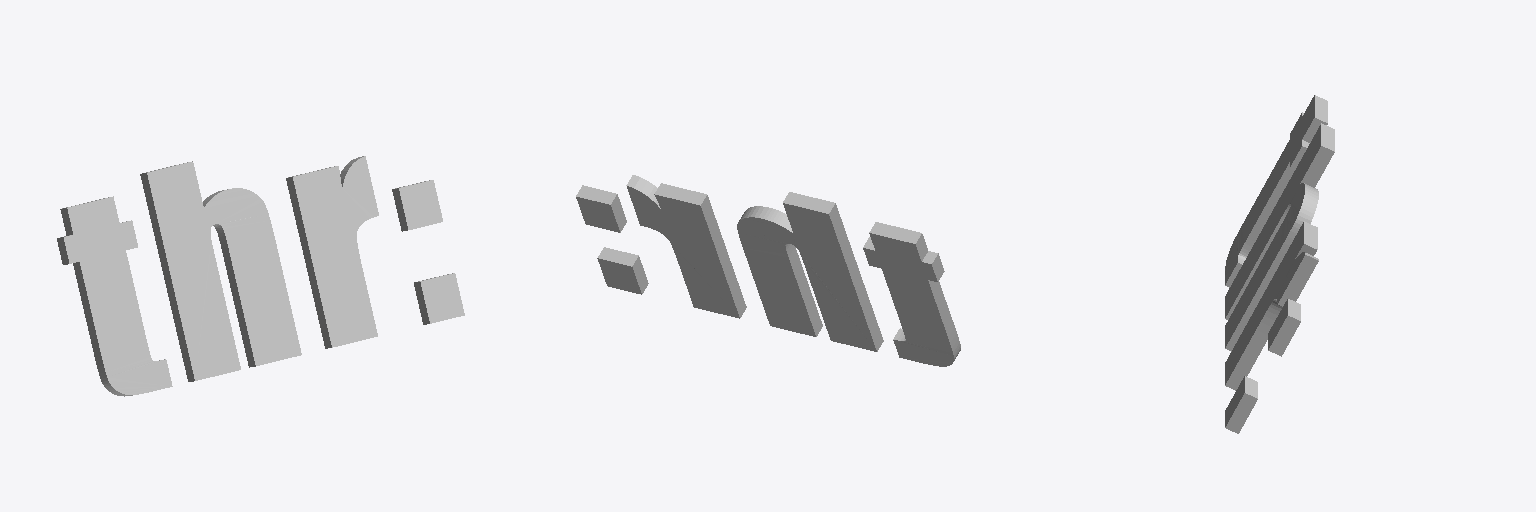
File: thr.obj
The picture shows the model from 3 angles: view 1: azimuth 30°, elevation 25°; view 2: azimuth 150°, elevation 25°; view 3: azimuth 270°, elevation 25°; orthographic projection.
Parts seen in each view (by area): view 1: Text.007; view 2: Text.007; view 3: Text.007.
Boxes of the visible parts, <box> form: Text.007: <box>57,156,464,396</box>; Text.007: <box>576,175,960,366</box>; Text.007: <box>1225,95,1334,433</box>.
Bounding box in the file's own units: 0.0165 × 0.0078 × 0.0043.